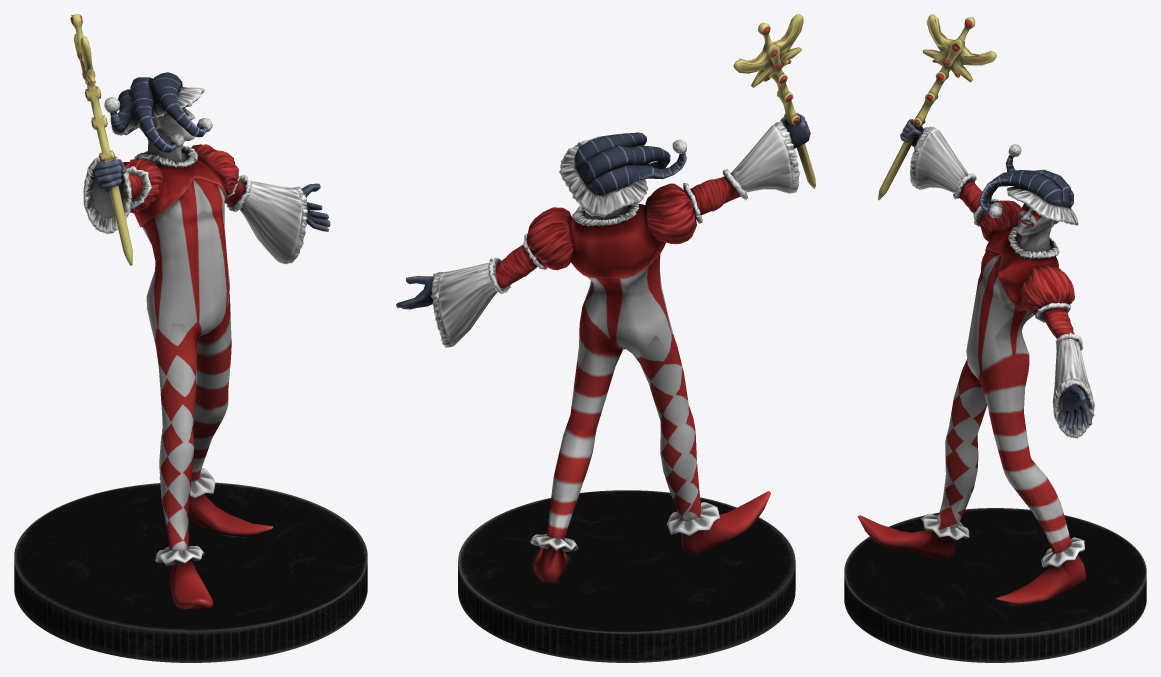
Rendered from MZ4250 - Mister Light.glb.
The picture shows the model from 3 angles, left to right: view 1: azimuth 30°, elevation 25°; view 2: azimuth 150°, elevation 25°; view 3: azimuth 270°, elevation 25°; orthographic projection. The views are drawn at different scales.
Parts seen in each view (by area): view 1: base_low.001, body_low.001, thing_low.001, staff_low.001; view 2: body_low.001, base_low.001, thing_low.001, staff_low.001; view 3: body_low.001, base_low.001, thing_low.001, staff_low.001.
Boxes of the visible parts, <box> form: base_low.001: <box>14,482,367,662</box>; body_low.001: <box>94,72,330,609</box>; thing_low.001: <box>83,156,307,264</box>; staff_low.001: <box>70,14,132,265</box>; body_low.001: <box>396,113,810,583</box>; base_low.001: <box>458,490,795,662</box>; thing_low.001: <box>431,121,800,347</box>; staff_low.001: <box>733,14,815,188</box>; body_low.001: <box>857,119,1092,604</box>; base_low.001: <box>844,508,1146,662</box>; thing_low.001: <box>909,126,1094,438</box>; staff_low.001: <box>877,14,996,200</box>.
Bounding box in the file's own units: 3.59 × 6.21 × 3.23.
Materials: 1 (1 with a texture image).
